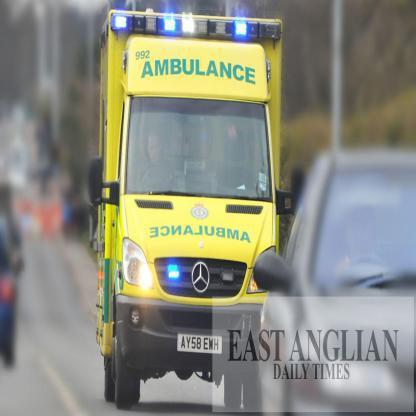Ambulance - v1 Ambulance last generate: (100, 4, 279, 411)
